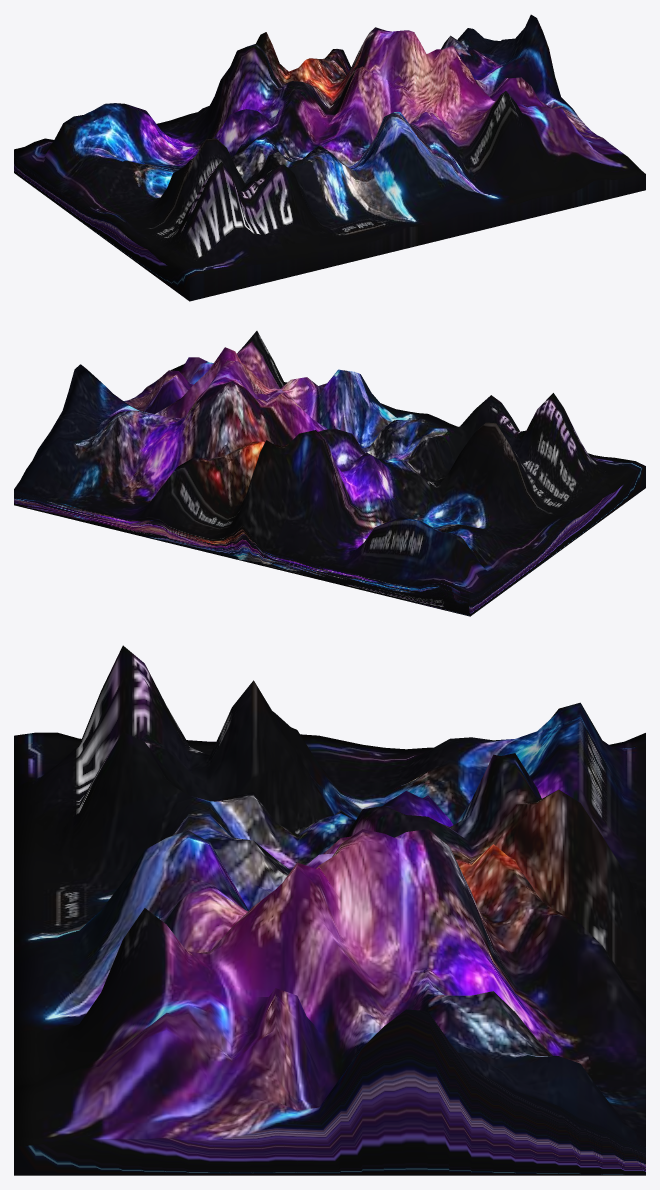
File: MATERIAL_Supreme_Tier.glb
The picture shows the model from 3 angles, top to bottom: view 1: azimuth 30°, elevation 25°; view 2: azimuth 150°, elevation 25°; view 3: azimuth 270°, elevation 25°; orthographic projection. The views are drawn at different scales.
Visible parts, largest first — view 1: MATERIAL_Supreme_Tier; view 2: MATERIAL_Supreme_Tier; view 3: MATERIAL_Supreme_Tier.
Boxes of the visible parts, x1,y1,x2,y2 form: MATERIAL_Supreme_Tier: (14, 14, 645, 301); MATERIAL_Supreme_Tier: (14, 331, 645, 616); MATERIAL_Supreme_Tier: (14, 645, 645, 1175).
Size of the model in its own units: 2 by 0.51 by 1.33.
1 material, 1 textured.
